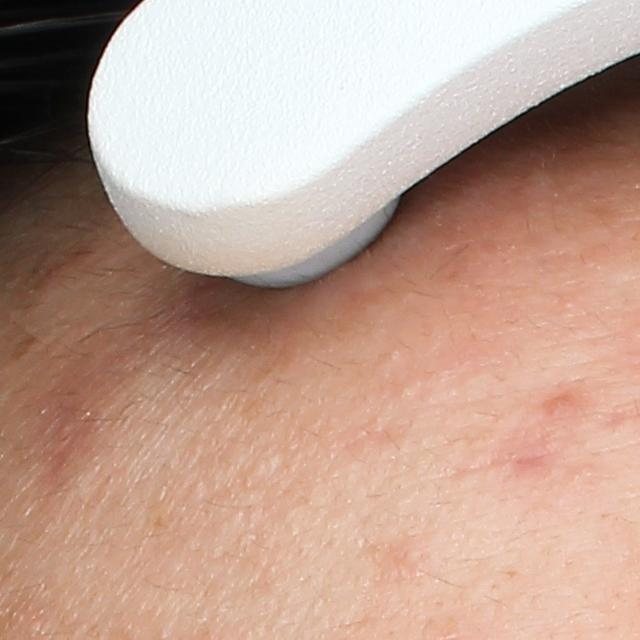papule: (545, 396, 576, 418)
